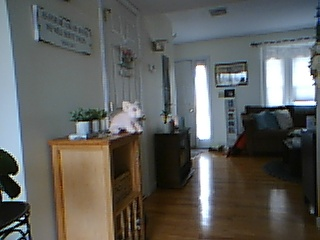piggy: (109, 100, 145, 134)
